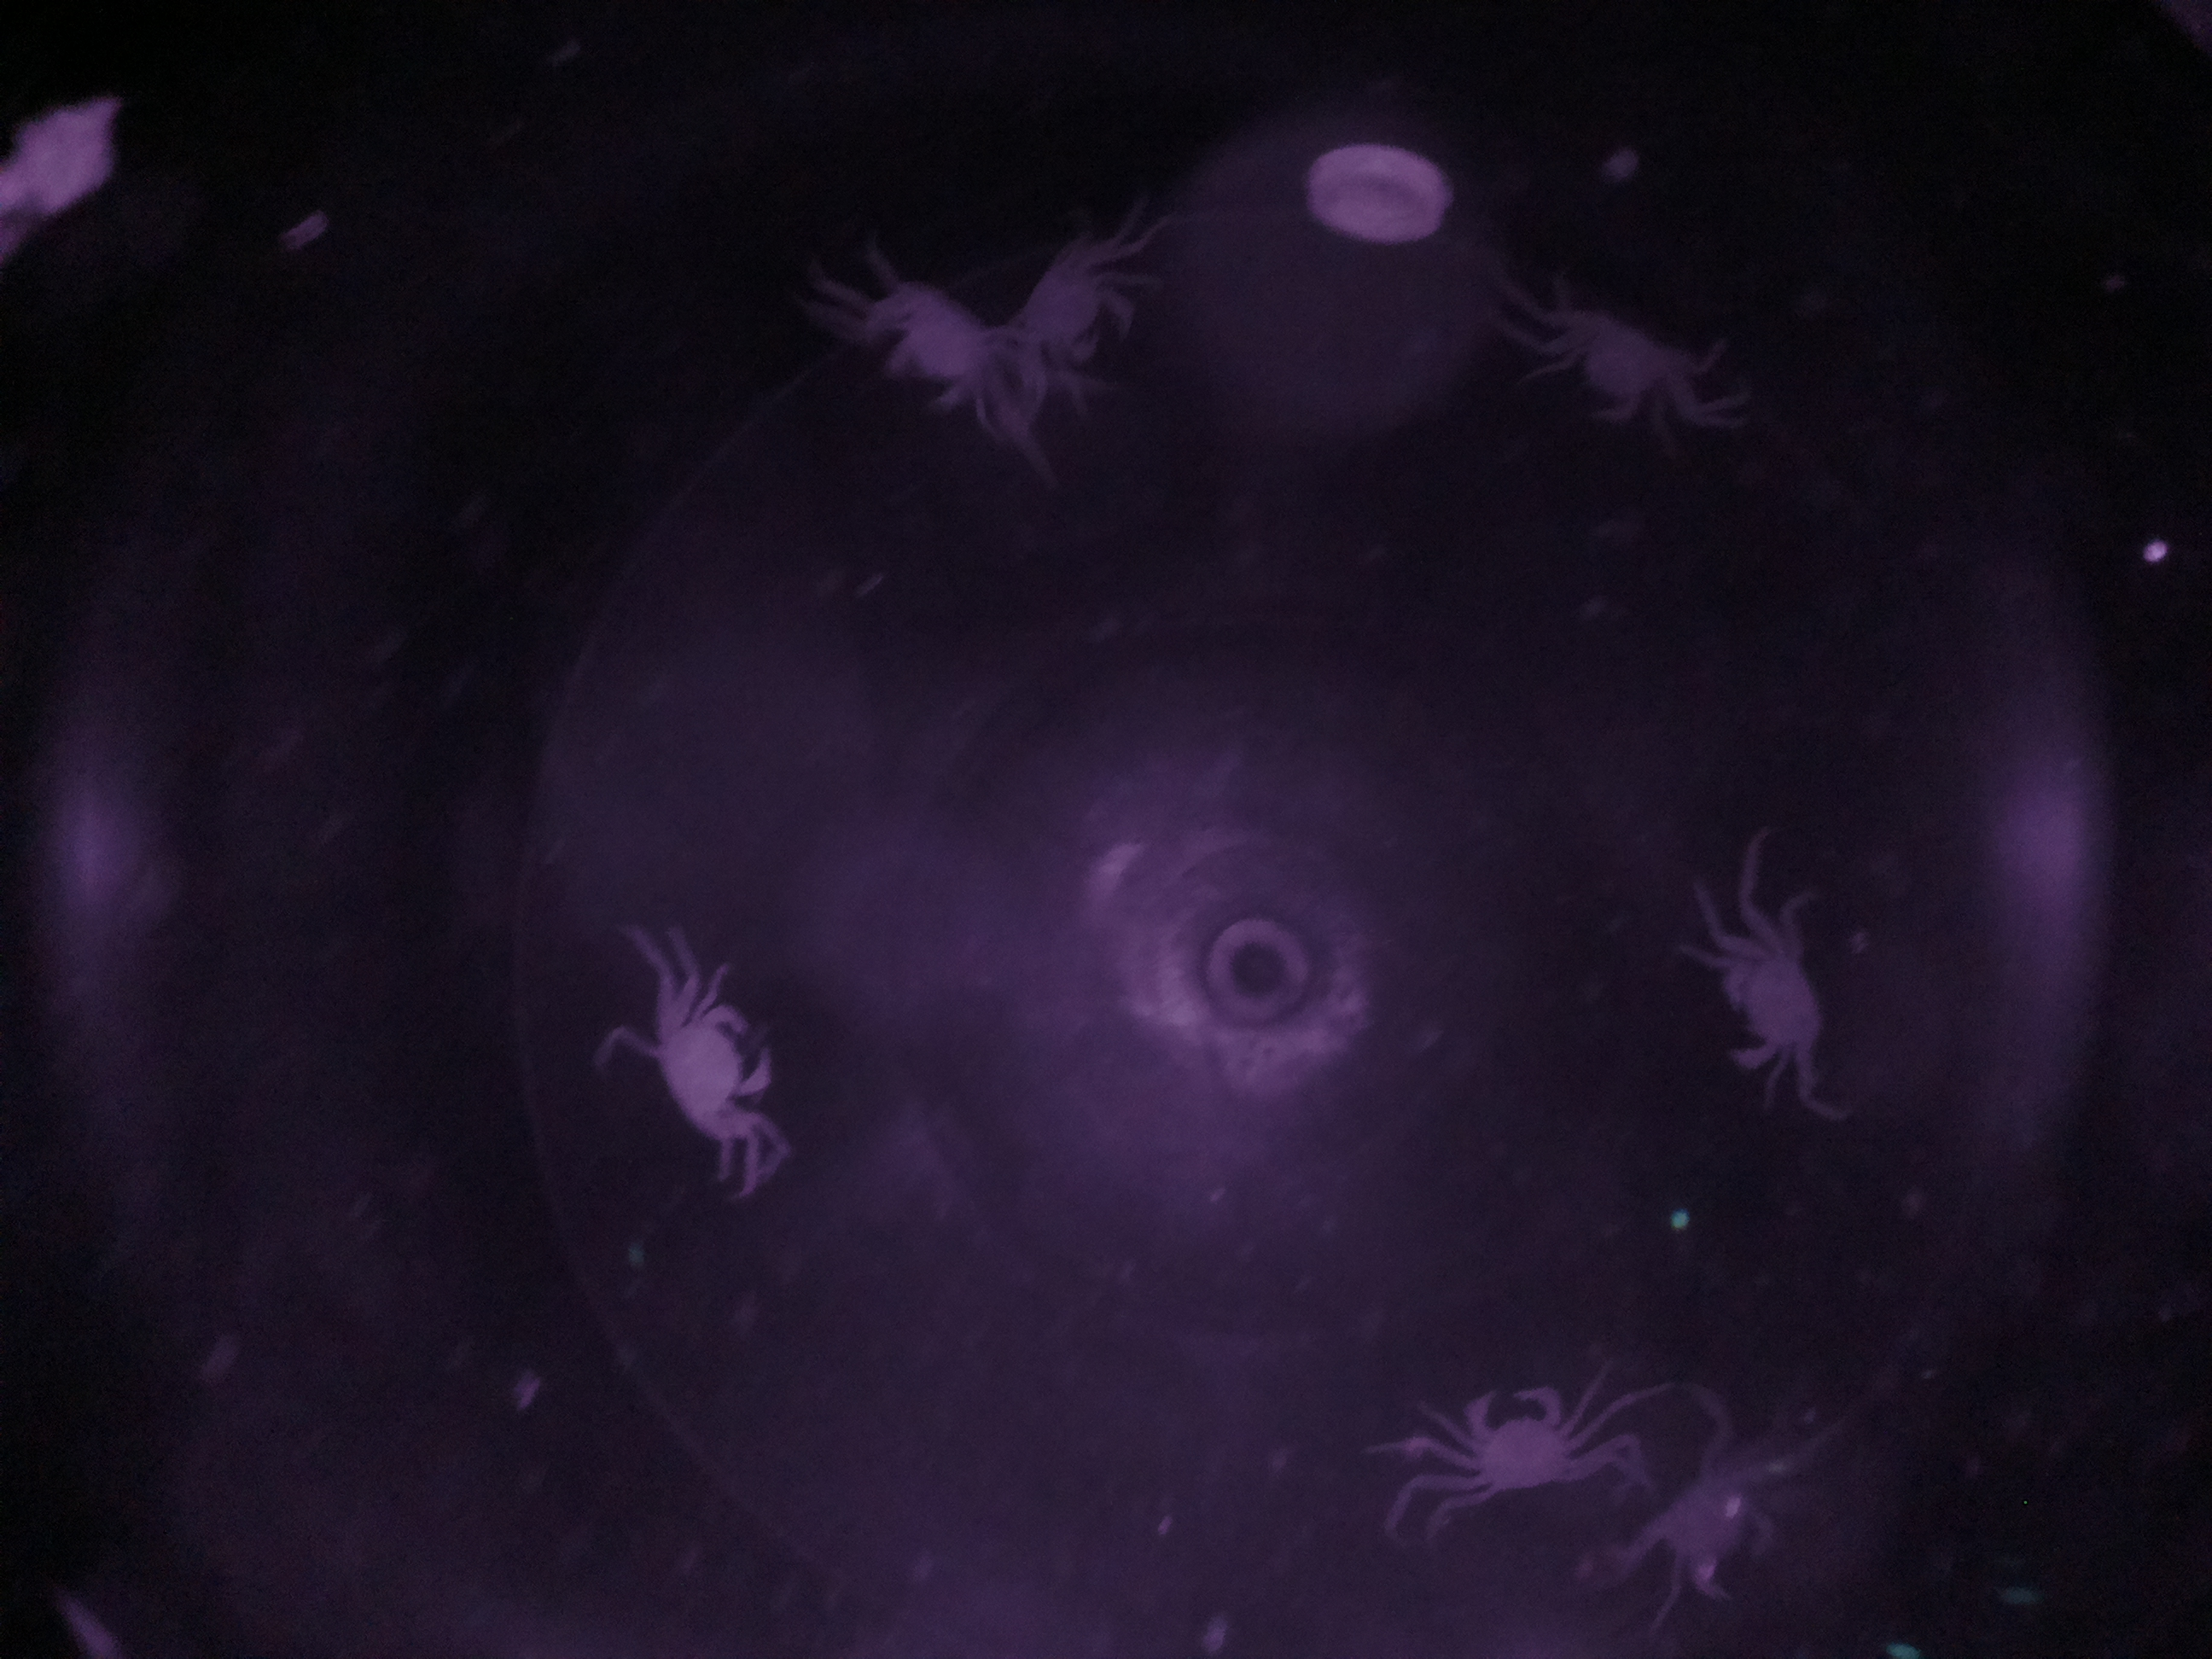Crab: (629, 960, 786, 1173), (1414, 1363, 1588, 1521), (1695, 920, 1841, 1089)
